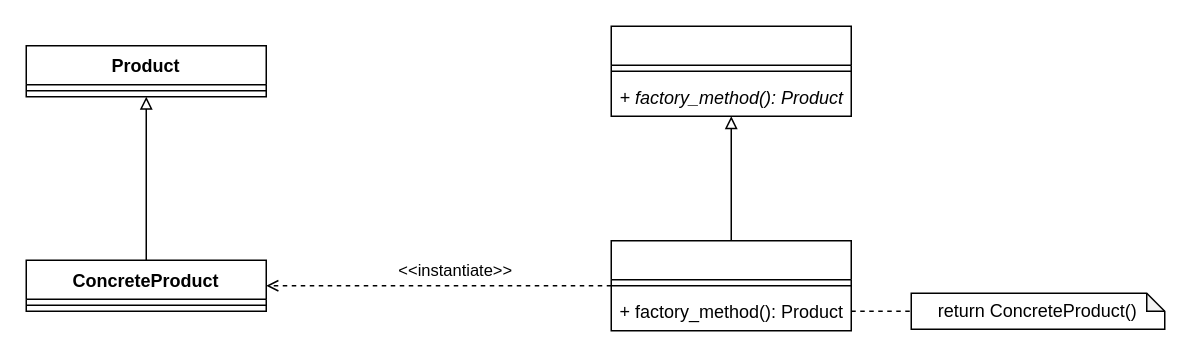
Image size: 1191x362. Some labels were removed from this diagram. Here are the shapes that lost their labels. From the top down, the box of each, then its label:
(610, 25, 851, 116): Creator
(610, 239, 851, 331): ConcreteCreatorA
